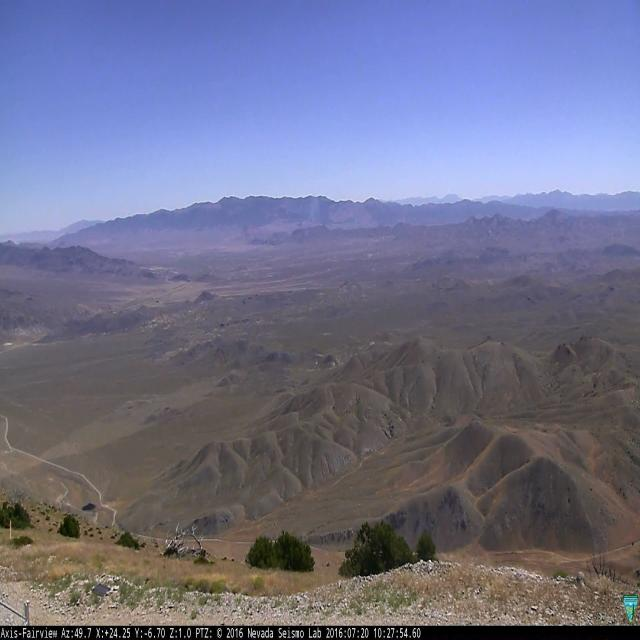smoke: (307, 198, 319, 227)
